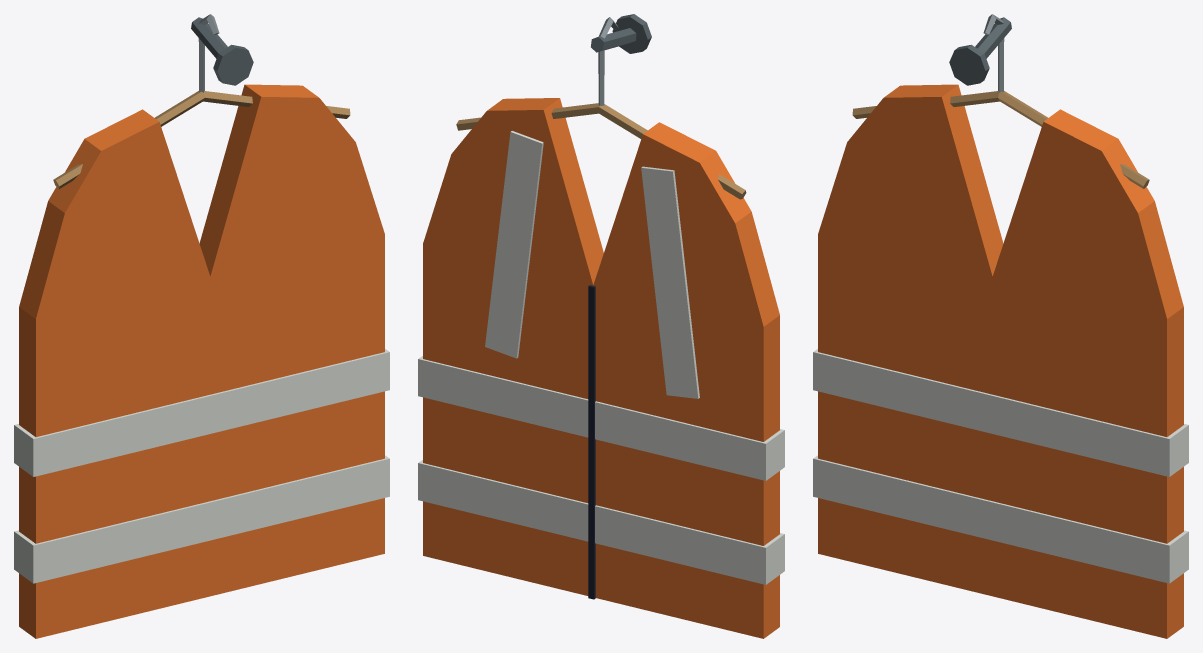
The model's file is sm_env_depot_safety_vest.glb.
3 views of the same model, side by side, from view 1: azimuth 30°, elevation 25°; view 2: azimuth 150°, elevation 25°; view 3: azimuth 330°, elevation 25° (orthographic). The views are drawn at different scales.
Visible parts, largest first — view 1: Vest, ReflectiveBand.001, ReflectiveBand, Hanger, PegPlate, Peg; view 2: Vest, ReflectiveBand, ReflectiveBand.001, ReflectiveStrap, ReflectiveStrap.001, Zip, Hanger, PegPlate, Peg, HangerHook; view 3: Vest, ReflectiveBand.001, ReflectiveBand, Hanger, PegPlate, Peg.
Boxes of the visible parts, <box> form: Vest: <box>19,84,384,638</box>; ReflectiveBand.001: <box>14,455,389,583</box>; ReflectiveBand: <box>14,349,389,476</box>; Hanger: <box>53,91,350,188</box>; PegPlate: <box>213,44,253,85</box>; Peg: <box>191,17,227,58</box>; Vest: <box>423,98,779,638</box>; ReflectiveBand: <box>418,356,784,480</box>; ReflectiveBand.001: <box>418,460,784,584</box>; ReflectiveStrap: <box>641,166,699,398</box>; ReflectiveStrap.001: <box>485,131,543,358</box>; Zip: <box>588,285,595,599</box>; Hanger: <box>456,103,746,199</box>; PegPlate: <box>612,14,651,53</box>; Peg: <box>591,28,636,52</box>; HangerHook: <box>598,17,618,105</box>; Vest: <box>818,84,1183,638</box>; ReflectiveBand.001: <box>813,455,1188,583</box>; ReflectiveBand: <box>813,349,1188,476</box>; Hanger: <box>852,91,1149,188</box>; PegPlate: <box>949,44,989,85</box>; Peg: <box>975,17,1011,58</box>.
Size of the model in its own units: 0.49 by 0.7653 by 0.105.
